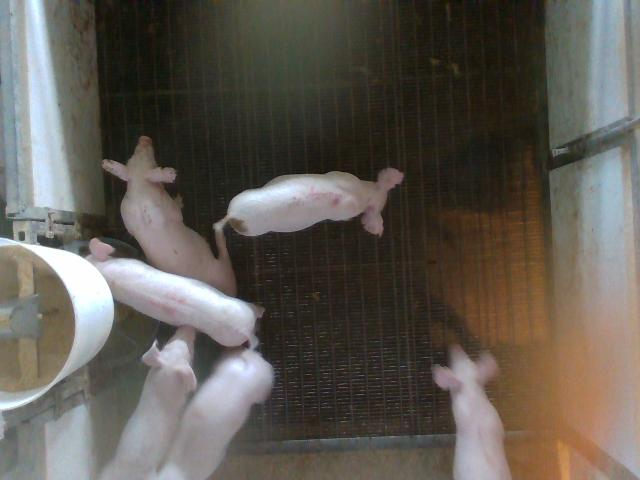pig-4: (86, 239, 262, 346)
pig-5: (214, 168, 404, 236)
